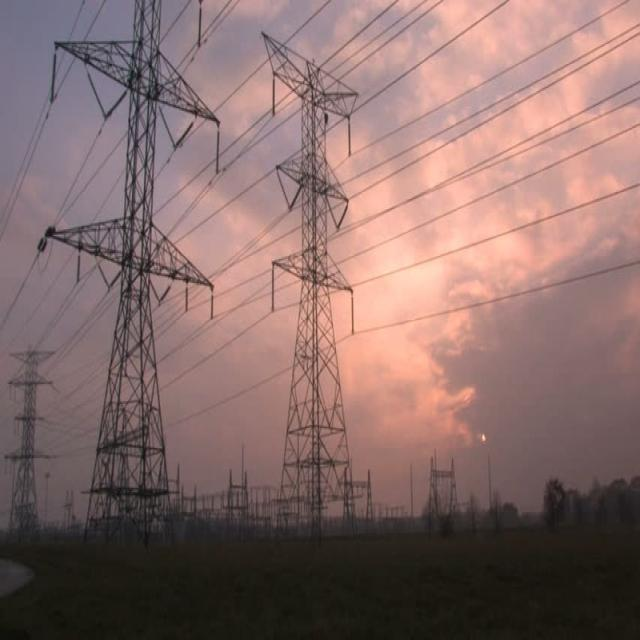non-critical vegetation: (52, 12, 224, 560), (244, 11, 406, 549), (5, 324, 61, 538)
